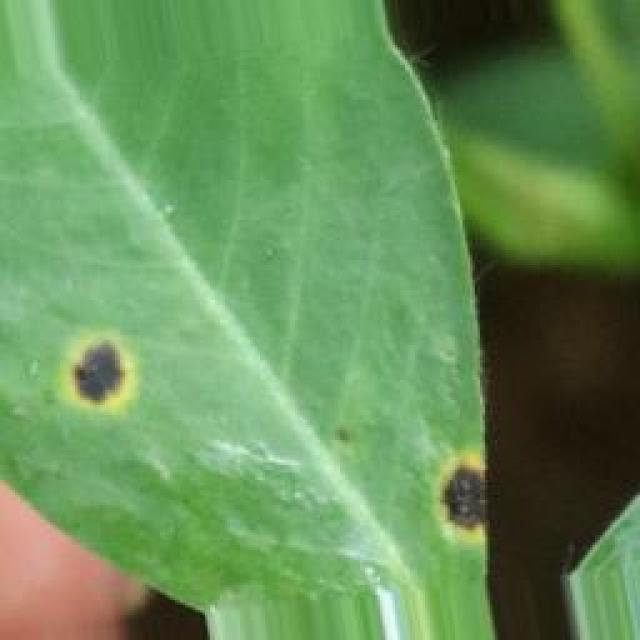Sigatoka: (358, 432, 514, 562), (46, 314, 152, 432)
